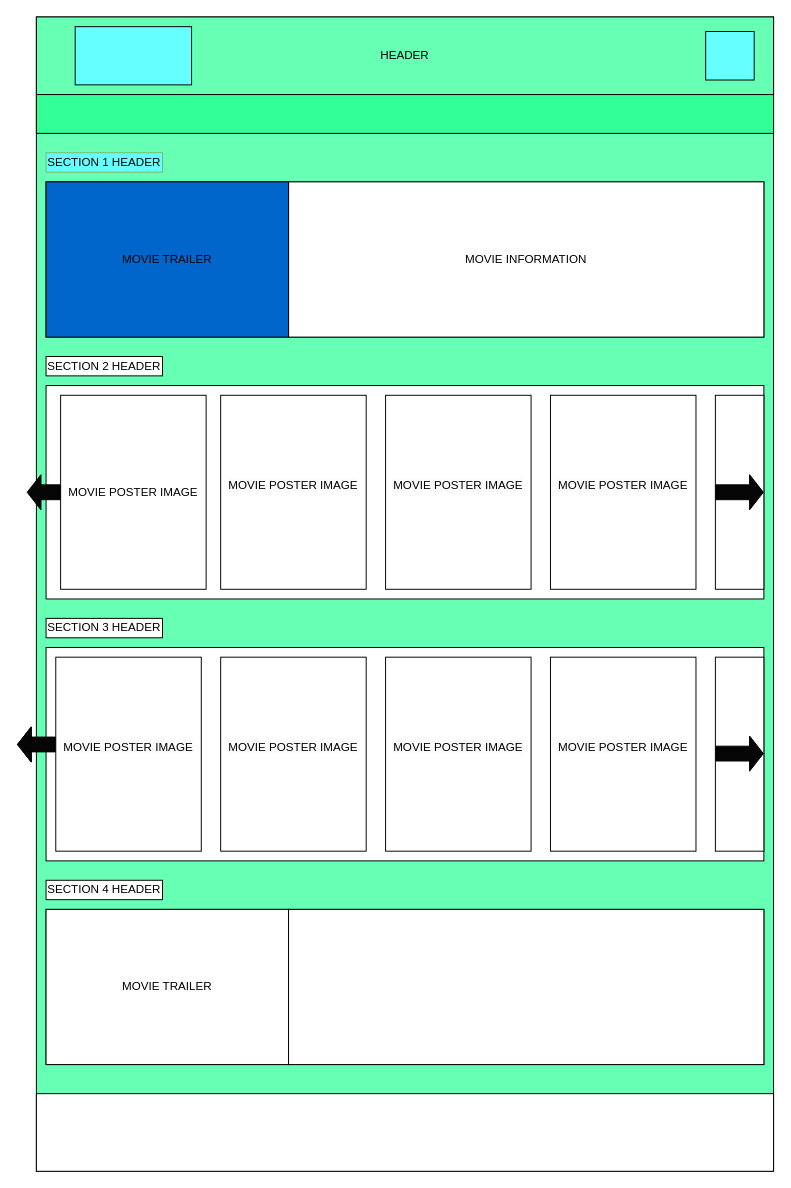
The diagram is 791 pixels wide and 1188 high, and some of its shapes have lost their labels. The shapes that lost their labels are listed below. From the top down, each one's box as (x1, y1, x2, y2) in pixels, then its label:
(74, 26, 192, 85): LOGO
(705, 31, 754, 80): PROFILE
(35, 94, 774, 133): NAVIGATION BAR
(288, 908, 764, 1065): REVIEW
(35, 1093, 774, 1171): FOOTER
